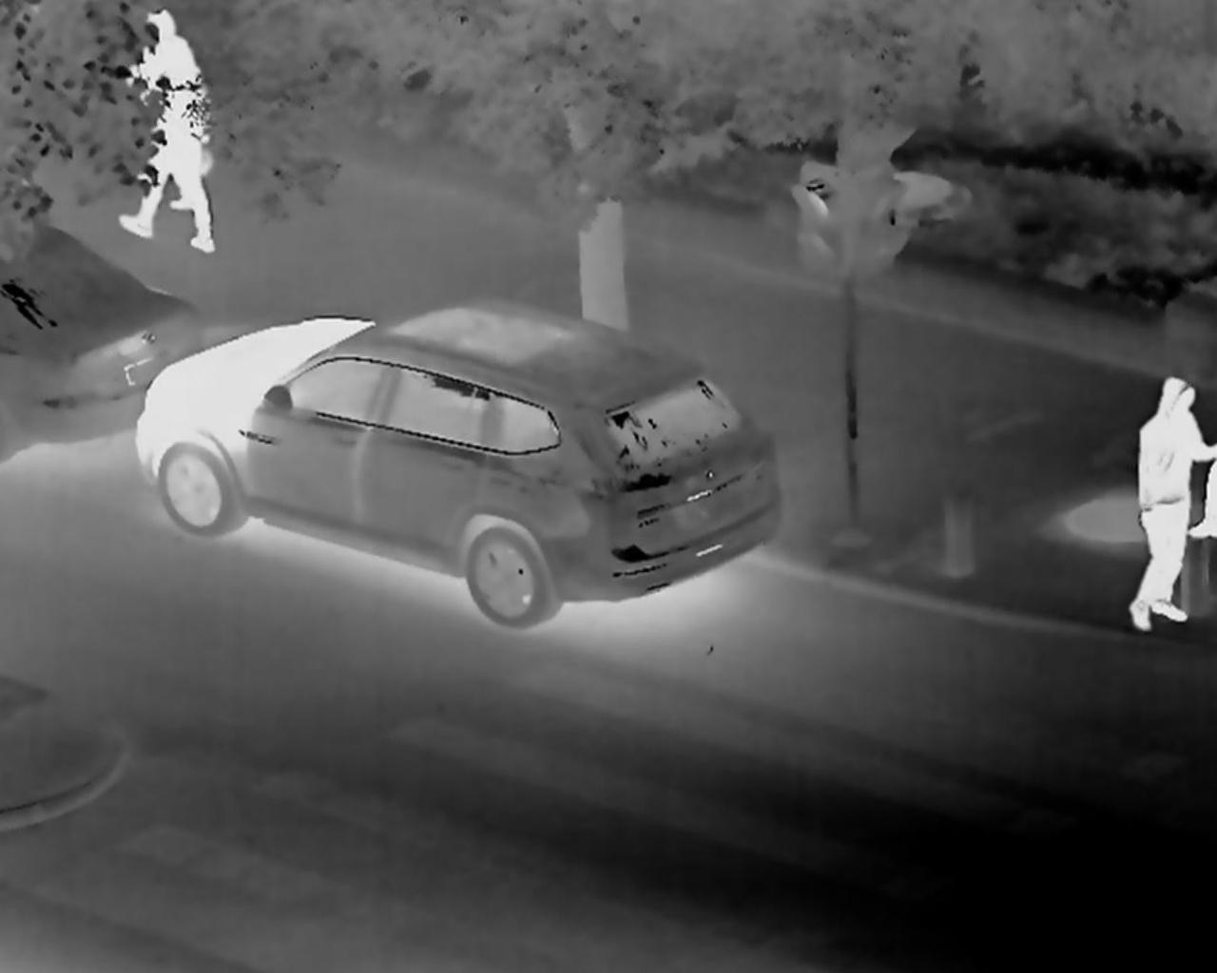person: (114, 42, 223, 256), (1130, 373, 1211, 633), (125, 9, 204, 212)
